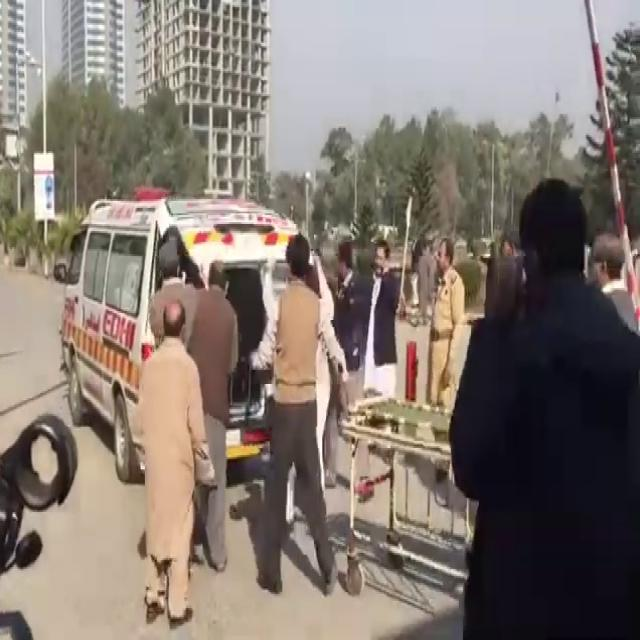ambulance: (60, 192, 306, 456)
